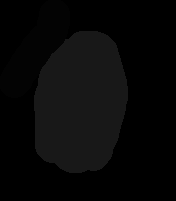fp: (30, 27, 123, 183)
